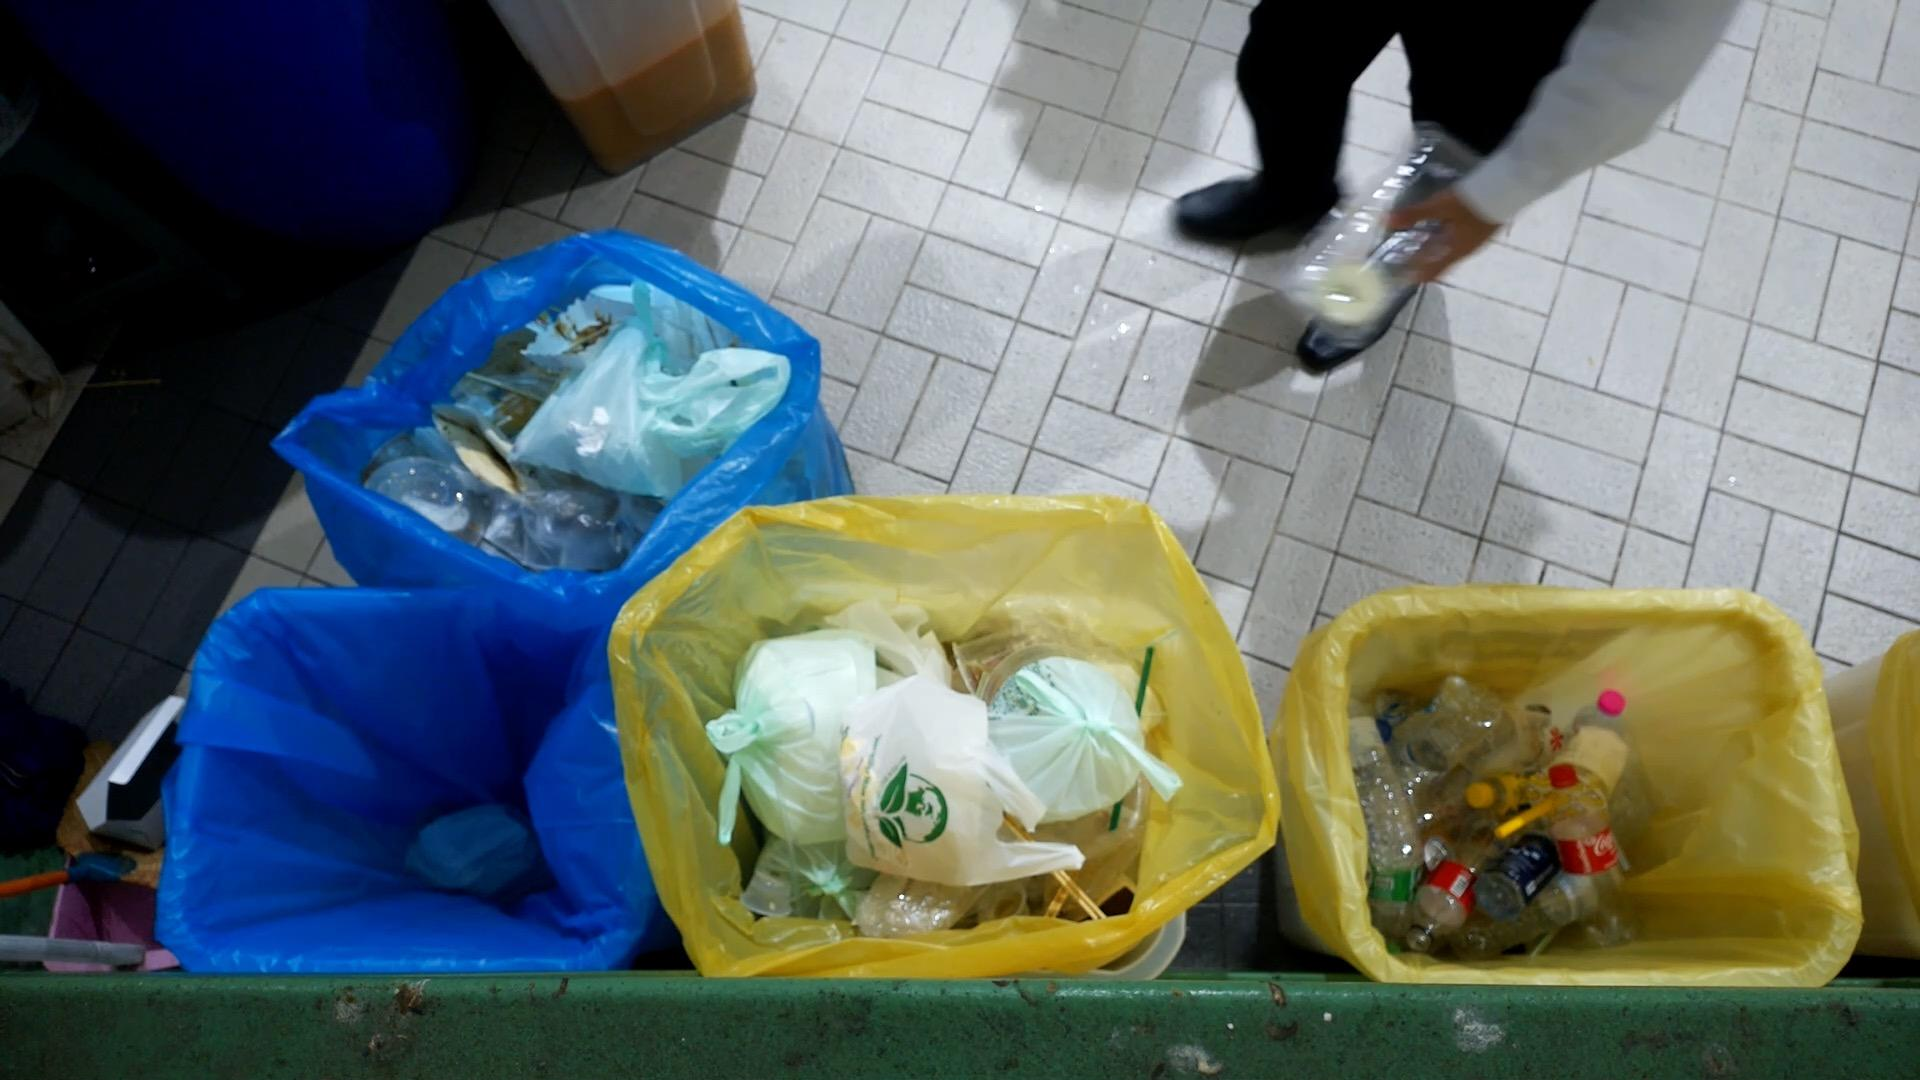filled plastic bag: (840, 676, 1087, 887), (508, 276, 688, 496), (705, 628, 876, 843), (992, 658, 1182, 825)
food container: (1274, 123, 1495, 349)
plastic bag: (646, 348, 794, 464)
plastic bottle: (1544, 762, 1642, 947), (1336, 692, 1429, 874), (1406, 820, 1501, 955)
sticks: (1004, 822, 1112, 922)
straw: (1104, 640, 1160, 833)
tissue paper: (568, 407, 615, 462)
